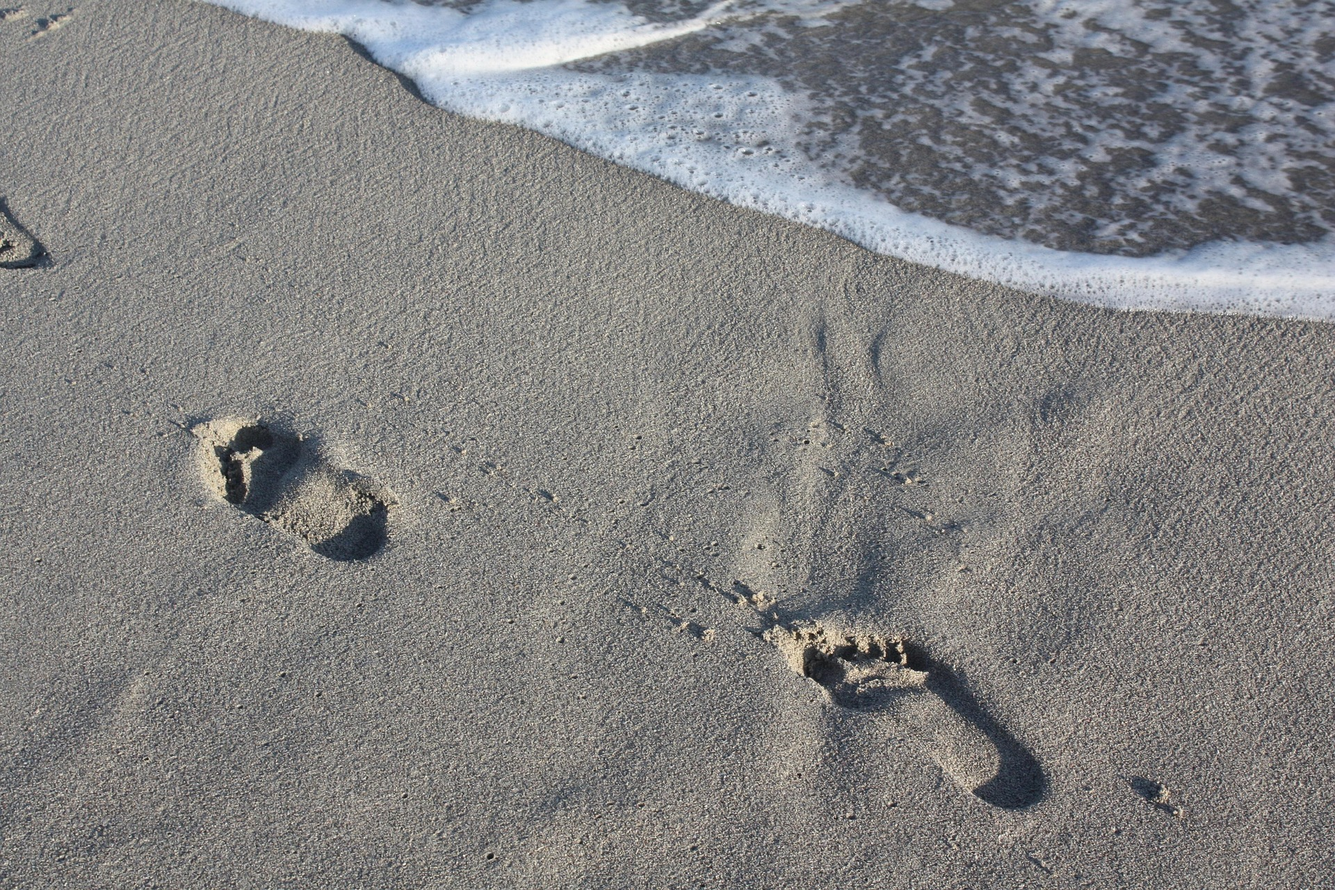human_foot_print: (441, 419, 1044, 808), (567, 508, 1045, 808), (761, 620, 1044, 808), (191, 418, 391, 560), (0, 200, 44, 268)
